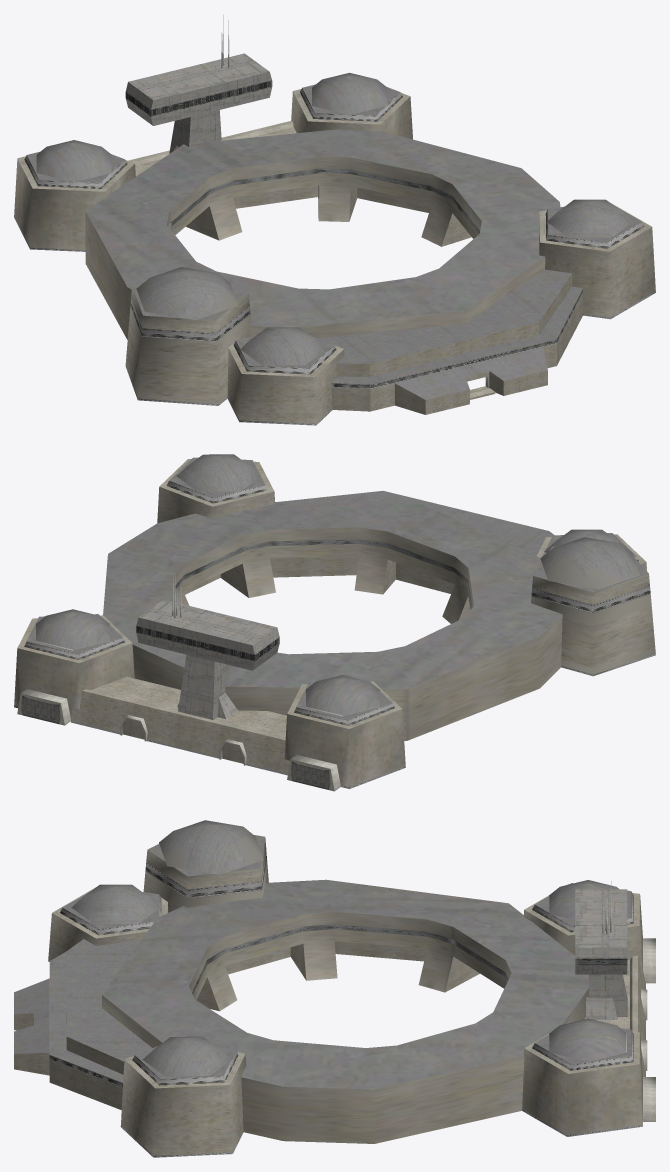
Rendered from mun_all_starport_s01_u01_r0_mesh_l3.fbx.
3 renders of one model, top to bottom at view 1: azimuth 30°, elevation 25°; view 2: azimuth 150°, elevation 25°; view 3: azimuth 270°, elevation 25°, orthographic. The views are drawn at different scales.
Parts seen in each view (by area): view 1: mesh_node; view 2: mesh_node; view 3: mesh_node.
Part boxes in pixels (left/top/right/bottom): mesh_node: left=14, top=15, right=655, bottom=425; mesh_node: left=14, top=454, right=655, bottom=791; mesh_node: left=14, top=820, right=655, bottom=1157.
Size of the model in its own units: 148 by 47.84 by 160.
